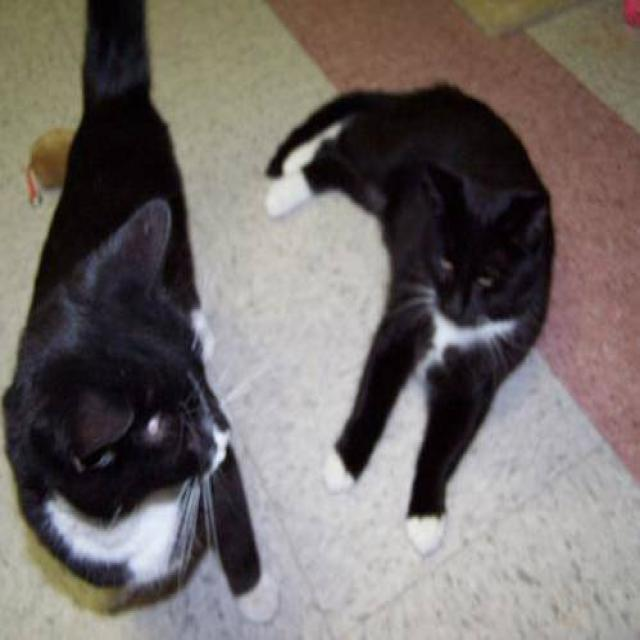cat: (0, 0, 262, 611), (263, 80, 555, 556)
